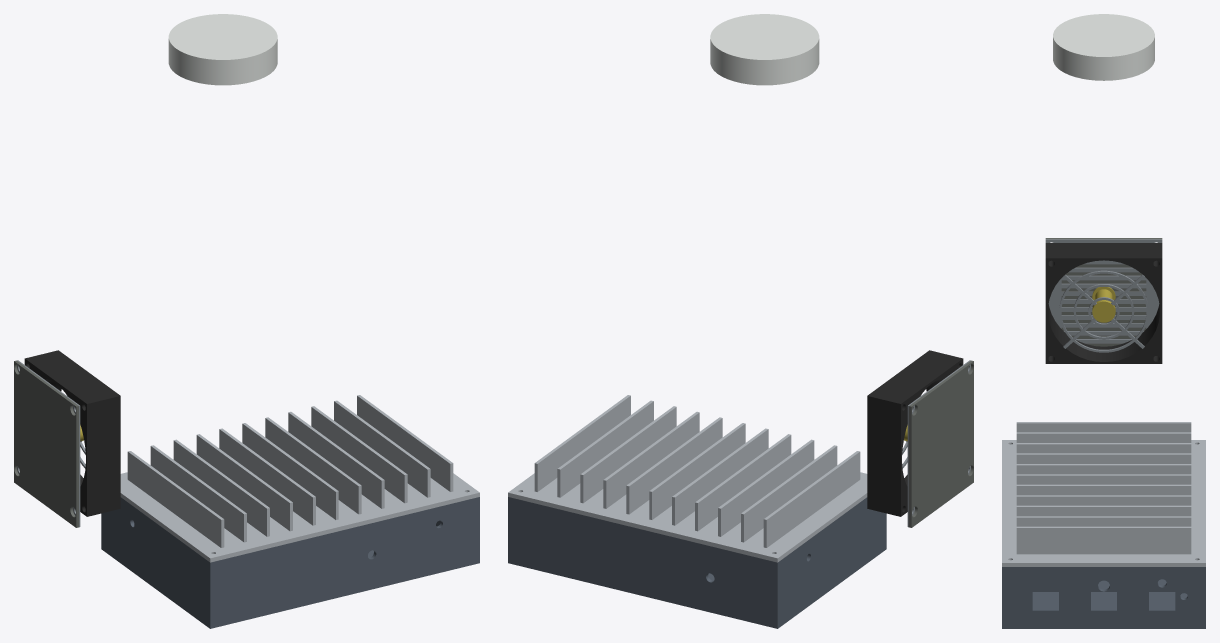
File: preview_compute.glb
The picture shows the model from 3 angles, left to right: view 1: azimuth 30°, elevation 25°; view 2: azimuth 150°, elevation 25°; view 3: azimuth 270°, elevation 25°; orthographic projection. The views are drawn at different scales.
Visible parts, largest first — view 1: compute_lid_heatsink, compute_tray, vent_rear_filter, fan_frame, antenna_puck; view 2: compute_lid_heatsink, compute_tray, vent_rear_filter, fan_frame, antenna_puck; view 3: compute_lid_heatsink, compute_tray, fan_frame, antenna_puck, vent_rear_mesh_frame, vent_rear_filter, fan_guard, fan_spindle.
Part boxes in pixels (x1,y1,x2,y2): compute_lid_heatsink: (120,395,479,562); compute_tray: (101,497,479,628); vent_rear_filter: (14,360,78,527); fan_frame: (24,350,120,516); antenna_puck: (168,14,277,85); compute_lid_heatsink: (508,395,867,562); compute_tray: (508,497,886,628); vent_rear_filter: (909,360,973,527); fan_frame: (867,350,963,516); antenna_puck: (710,14,819,85); compute_lid_heatsink: (1002,422,1205,566); compute_tray: (1002,567,1205,628); fan_frame: (1045,243,1162,363); antenna_puck: (1053,14,1154,80); vent_rear_mesh_frame: (1045,239,1162,343); vent_rear_filter: (1045,238,1162,346); fan_guard: (1059,270,1148,352); fan_spindle: (1092,287,1115,322).
Bounding box in the file's own units: 282 × 380 × 140.
